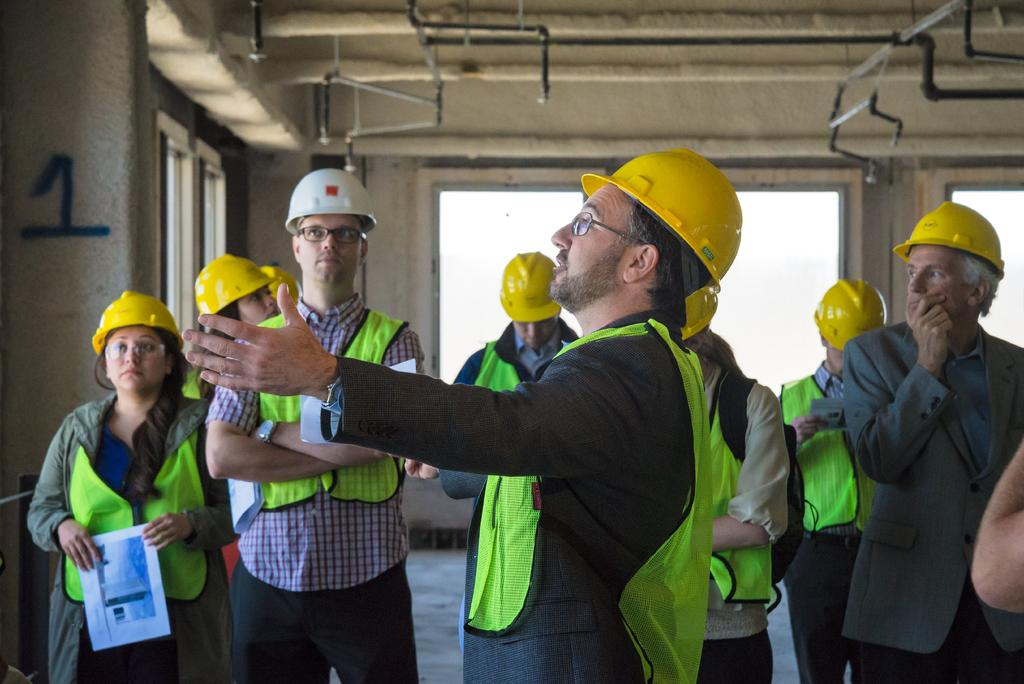helmet: (550, 148, 744, 310), (893, 201, 1005, 326), (285, 169, 377, 281), (92, 291, 184, 390), (195, 254, 282, 340), (814, 279, 887, 380), (500, 251, 565, 347)
